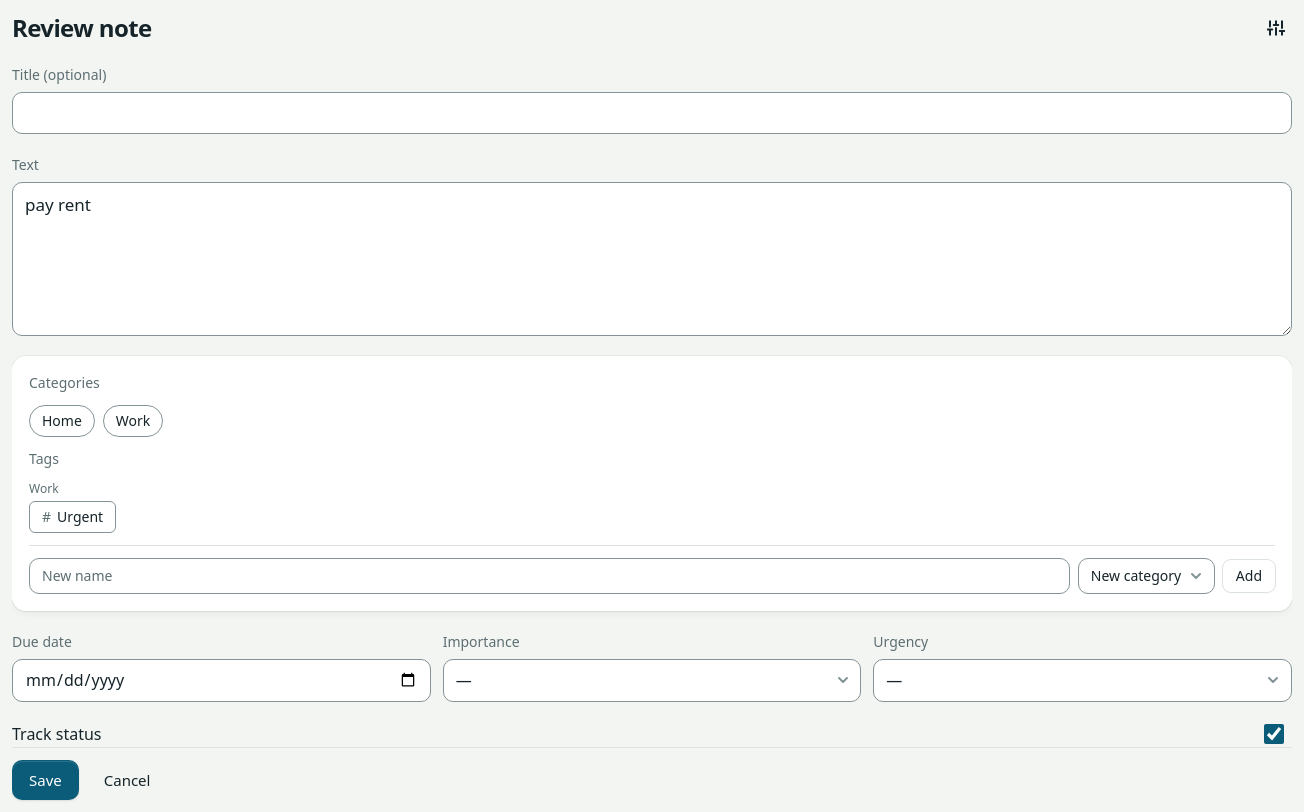
NoteEditor category importance › raises when an important category is added and shows the hint
The image size is (1304, 812).
Click the button "Work" at (133, 421), box 103,405 -> 163,437
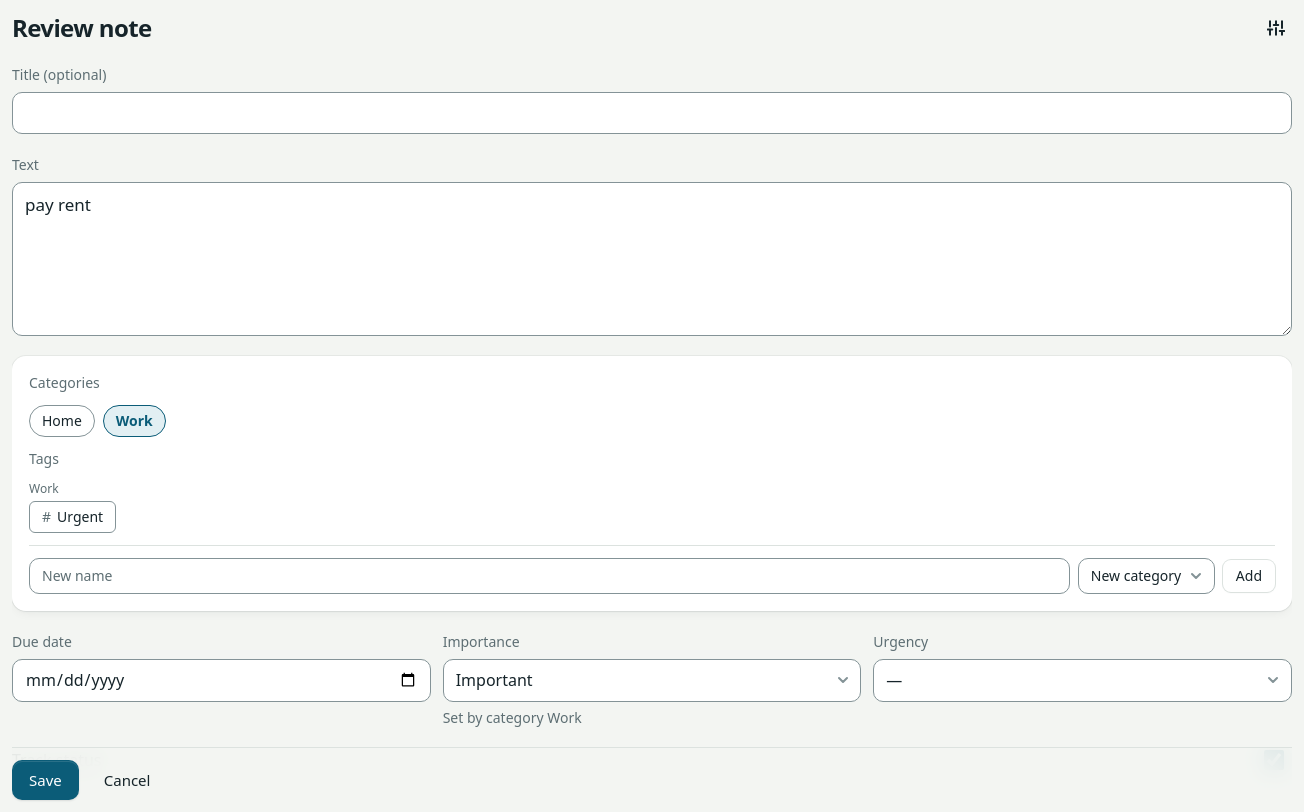
Expected: the dropdown labelled "Importance Set by category Work" shows "Important", 443,659 -> 861,702
Expected: the text "Set by category Work" is shown, 443,708 -> 582,727
